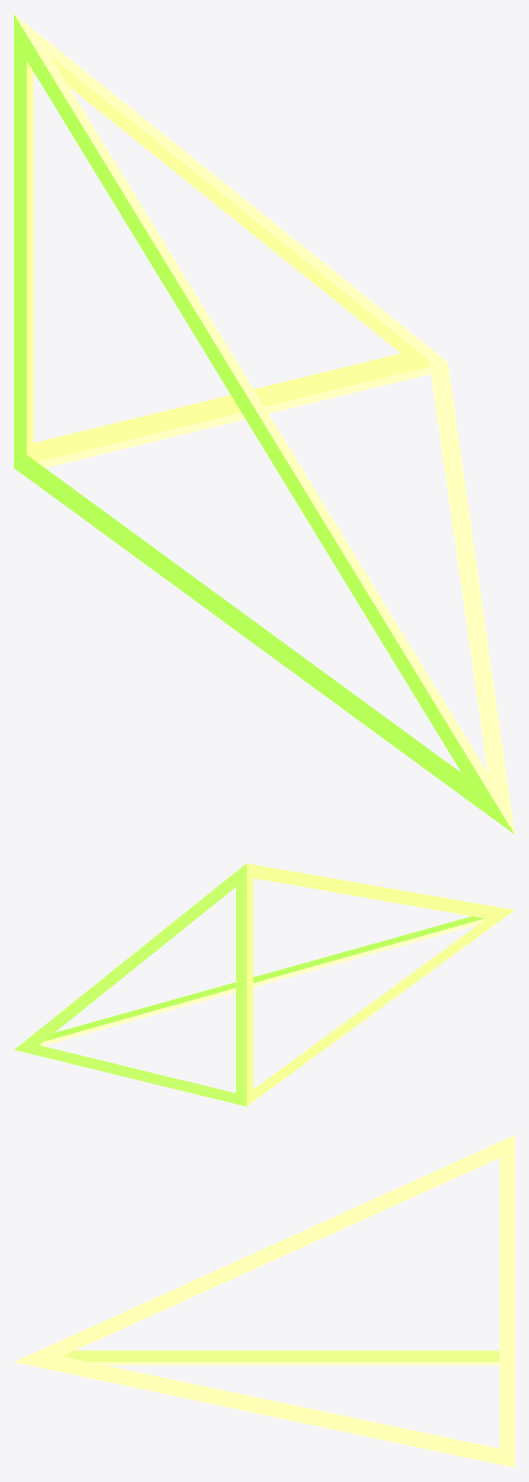
Rendered from r5c1_highlight_green.glb.
3 renders of one model, top to bottom at view 1: azimuth 30°, elevation 25°; view 2: azimuth 150°, elevation 25°; view 3: azimuth 270°, elevation 25°, orthographic. The views are drawn at different scales.
Visible parts, largest first — view 1: r5c1_highlight_green; view 2: r5c1_highlight_green; view 3: r5c1_highlight_green.
Part boxes in pixels (x1,y1,x2,y2): r5c1_highlight_green: [14, 14, 514, 834]; r5c1_highlight_green: [14, 863, 514, 1106]; r5c1_highlight_green: [14, 1135, 514, 1467].
Size of the model in its own units: 1 by 1 by 2.
